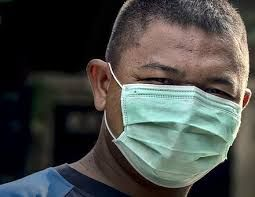with-mask: (83, 5, 252, 192)
